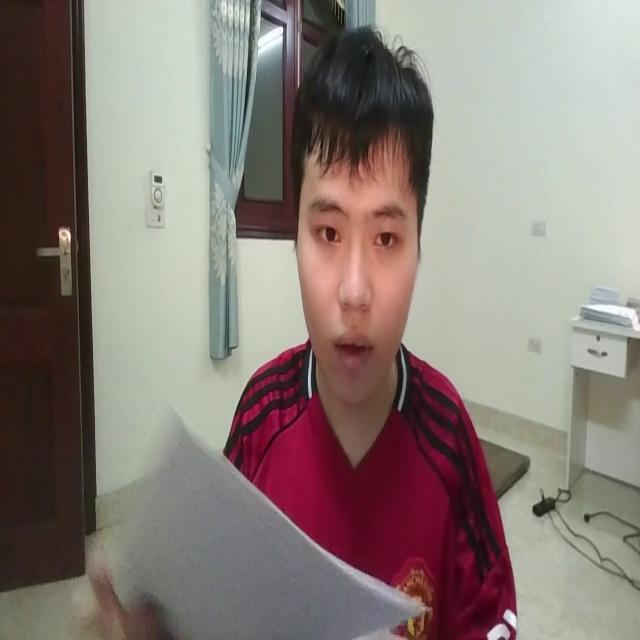book: (116, 393, 426, 640)
student: (92, 32, 517, 640)
